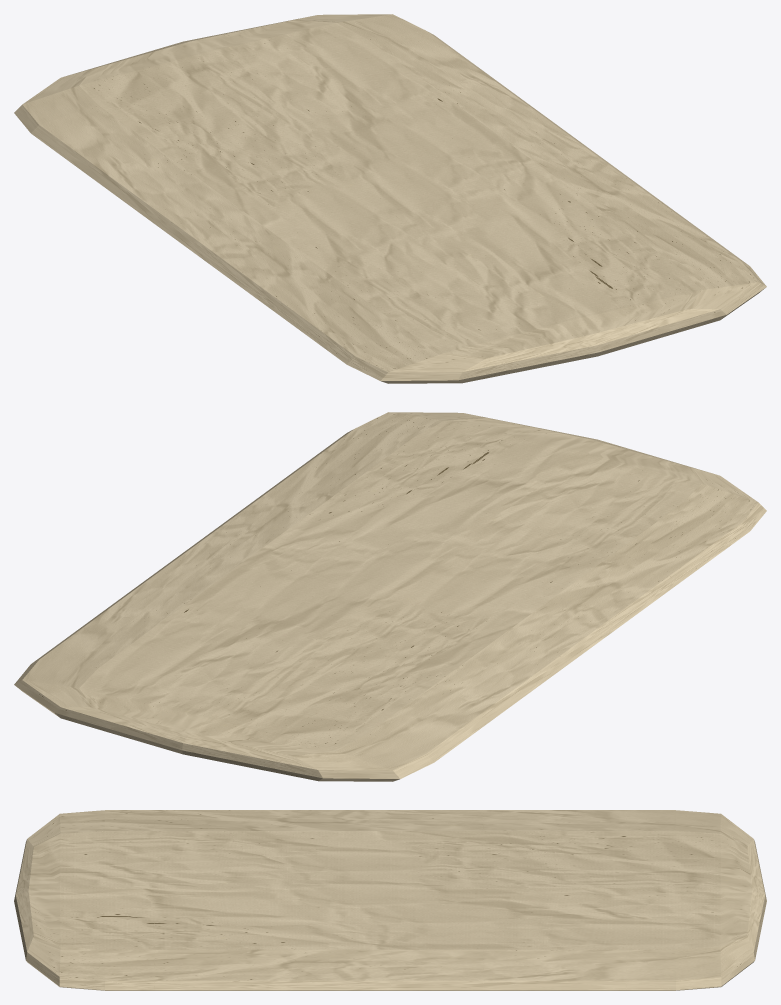
File: EmptyBeanBag.fbx
The picture shows the model from 3 angles, top to bottom: view 1: azimuth 30°, elevation 25°; view 2: azimuth 150°, elevation 25°; view 3: azimuth 270°, elevation 25°; orthographic projection. The views are drawn at different scales.
Visible parts, largest first — view 1: Cube.011; view 2: Cube.011; view 3: Cube.011.
Boxes of the visible parts, x1,y1,x2,y2 form: Cube.011: [14, 14, 766, 383]; Cube.011: [14, 412, 766, 781]; Cube.011: [14, 810, 766, 990].
Size of the model in its own units: 75.55 by 4.07 by 135.
